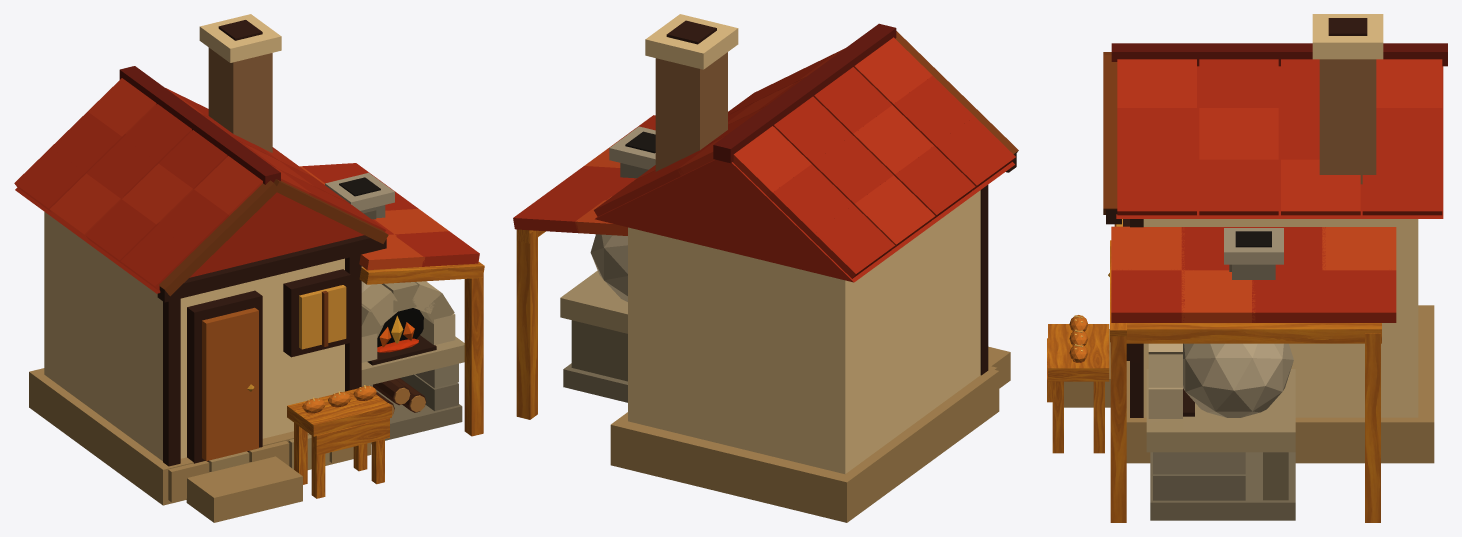
The model's file is bakery.obj.
The picture shows the model from 3 angles, left to right: view 1: azimuth 30°, elevation 25°; view 2: azimuth 150°, elevation 25°; view 3: azimuth 270°, elevation 25°; orthographic projection. The views are drawn at different scales.
Visible parts, largest first — view 1: bakery; view 2: bakery; view 3: bakery.
Boxes of the visible parts, x1,y1,x2,y2 form: bakery: [14, 14, 484, 522]; bakery: [513, 14, 1018, 522]; bakery: [1047, 14, 1447, 522].
Bounding box in the file's own units: 1.91 × 2.03 × 1.76.
2 materials, 2 textured.
